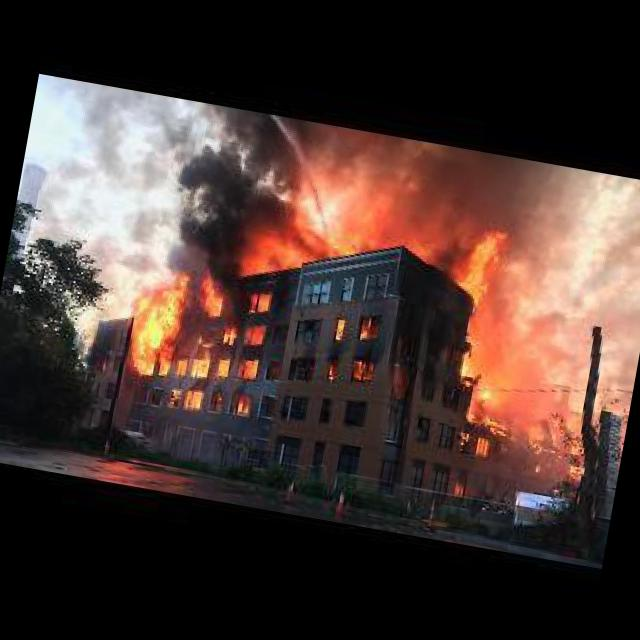Fire: (120, 258, 224, 412), (224, 195, 341, 303), (458, 217, 514, 309), (322, 308, 379, 379), (454, 402, 516, 458), (212, 319, 240, 383), (228, 386, 253, 417)
Smoke: (46, 84, 302, 288), (284, 125, 585, 298)
